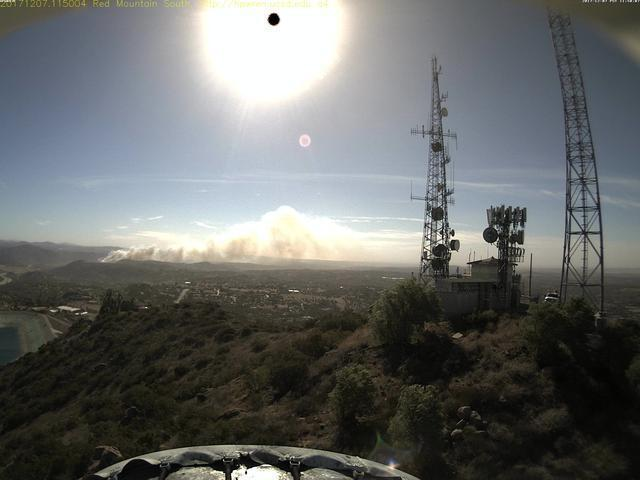Smoke: (94, 204, 366, 266)
